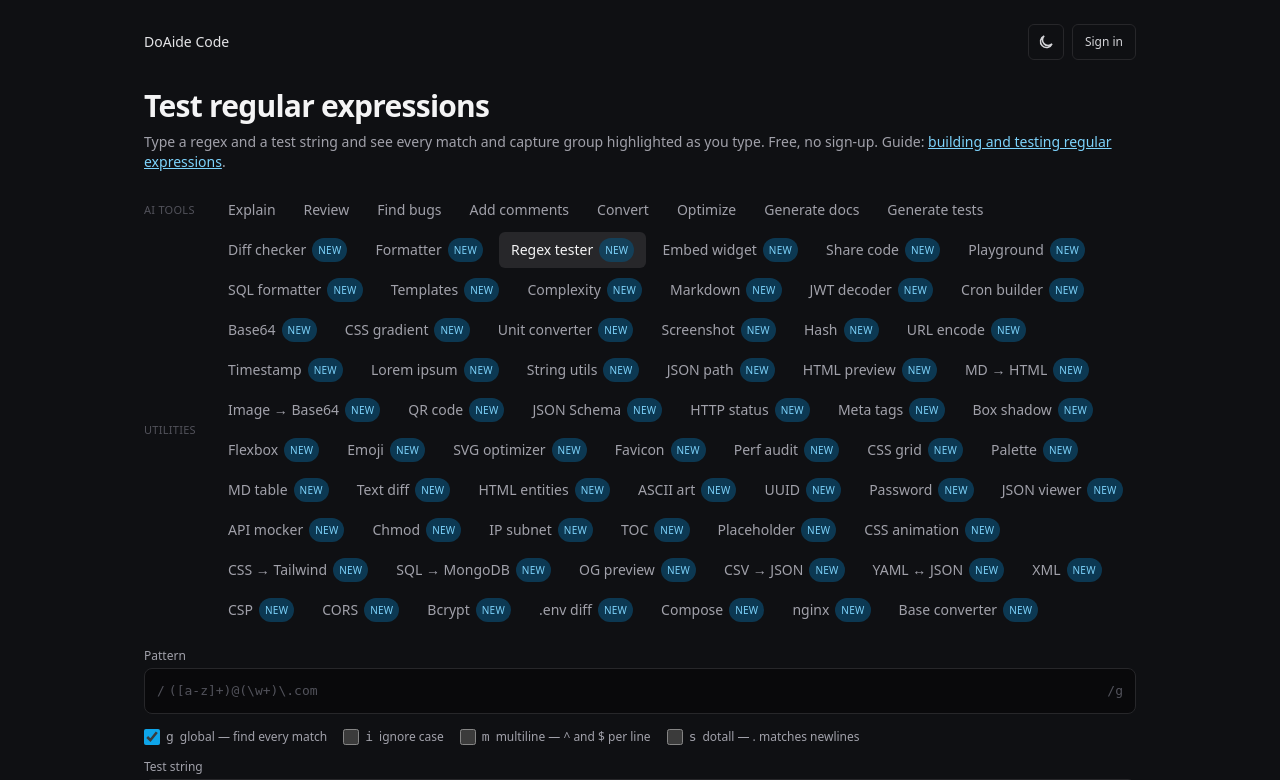
Test case: RegexPage › shows capture groups in the table
Type "(\\w+)@(\\w+)" into the field with test id "rx-pattern" at (636, 691), box x1=165 y1=669 x2=1107 y2=713
(page scrolled)
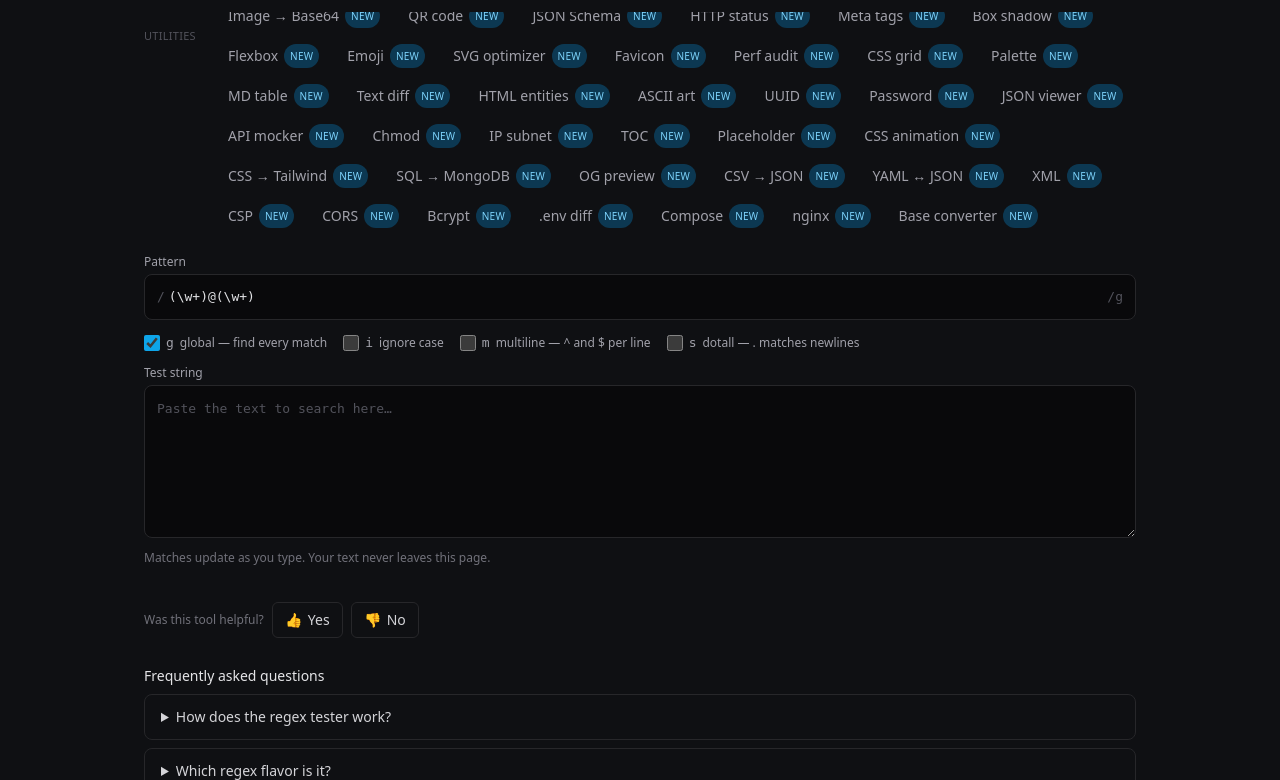
Type "jo@ex" into the text box with test id "rx-text" at (640, 462), box x1=144 y1=385 x2=1136 y2=538
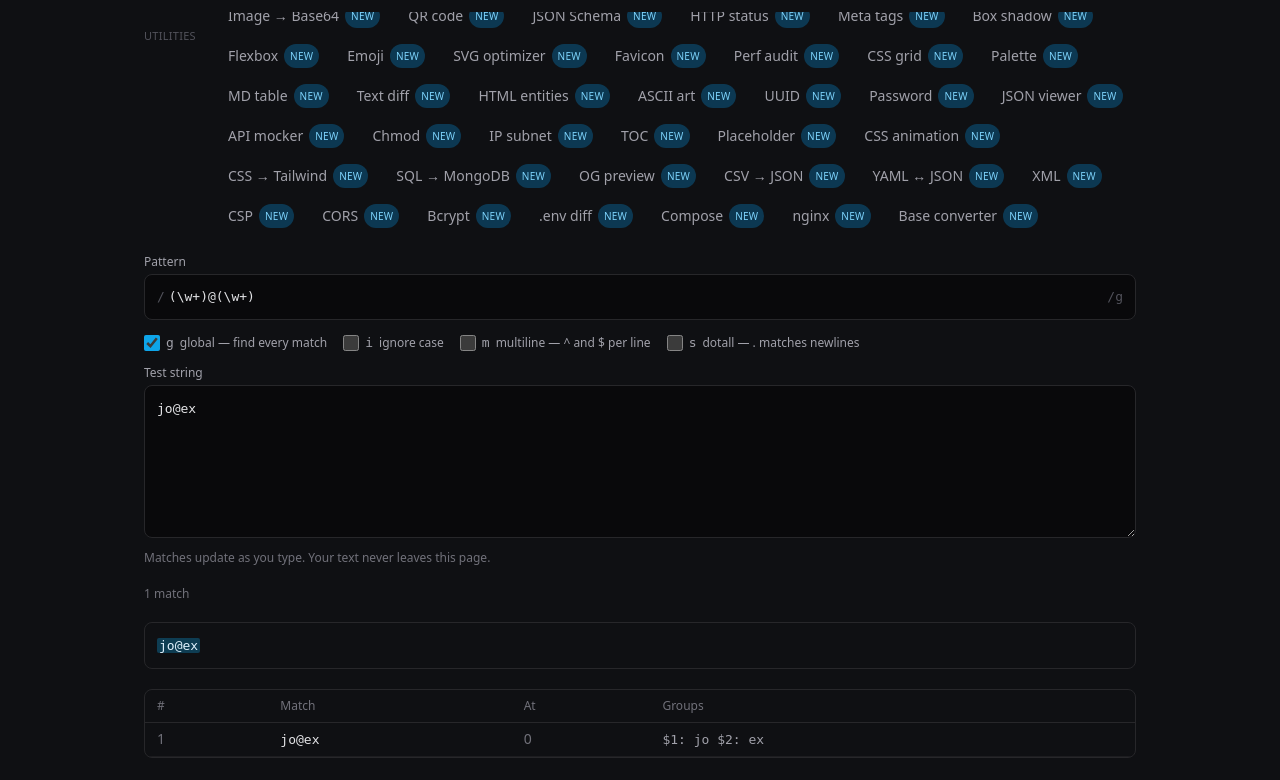
Now the table with test id "rx-table" shows "$1: jo", box x1=662 y1=732 x2=764 y2=747
Now the table with test id "rx-table" shows "$2: ex", box x1=662 y1=732 x2=764 y2=747
